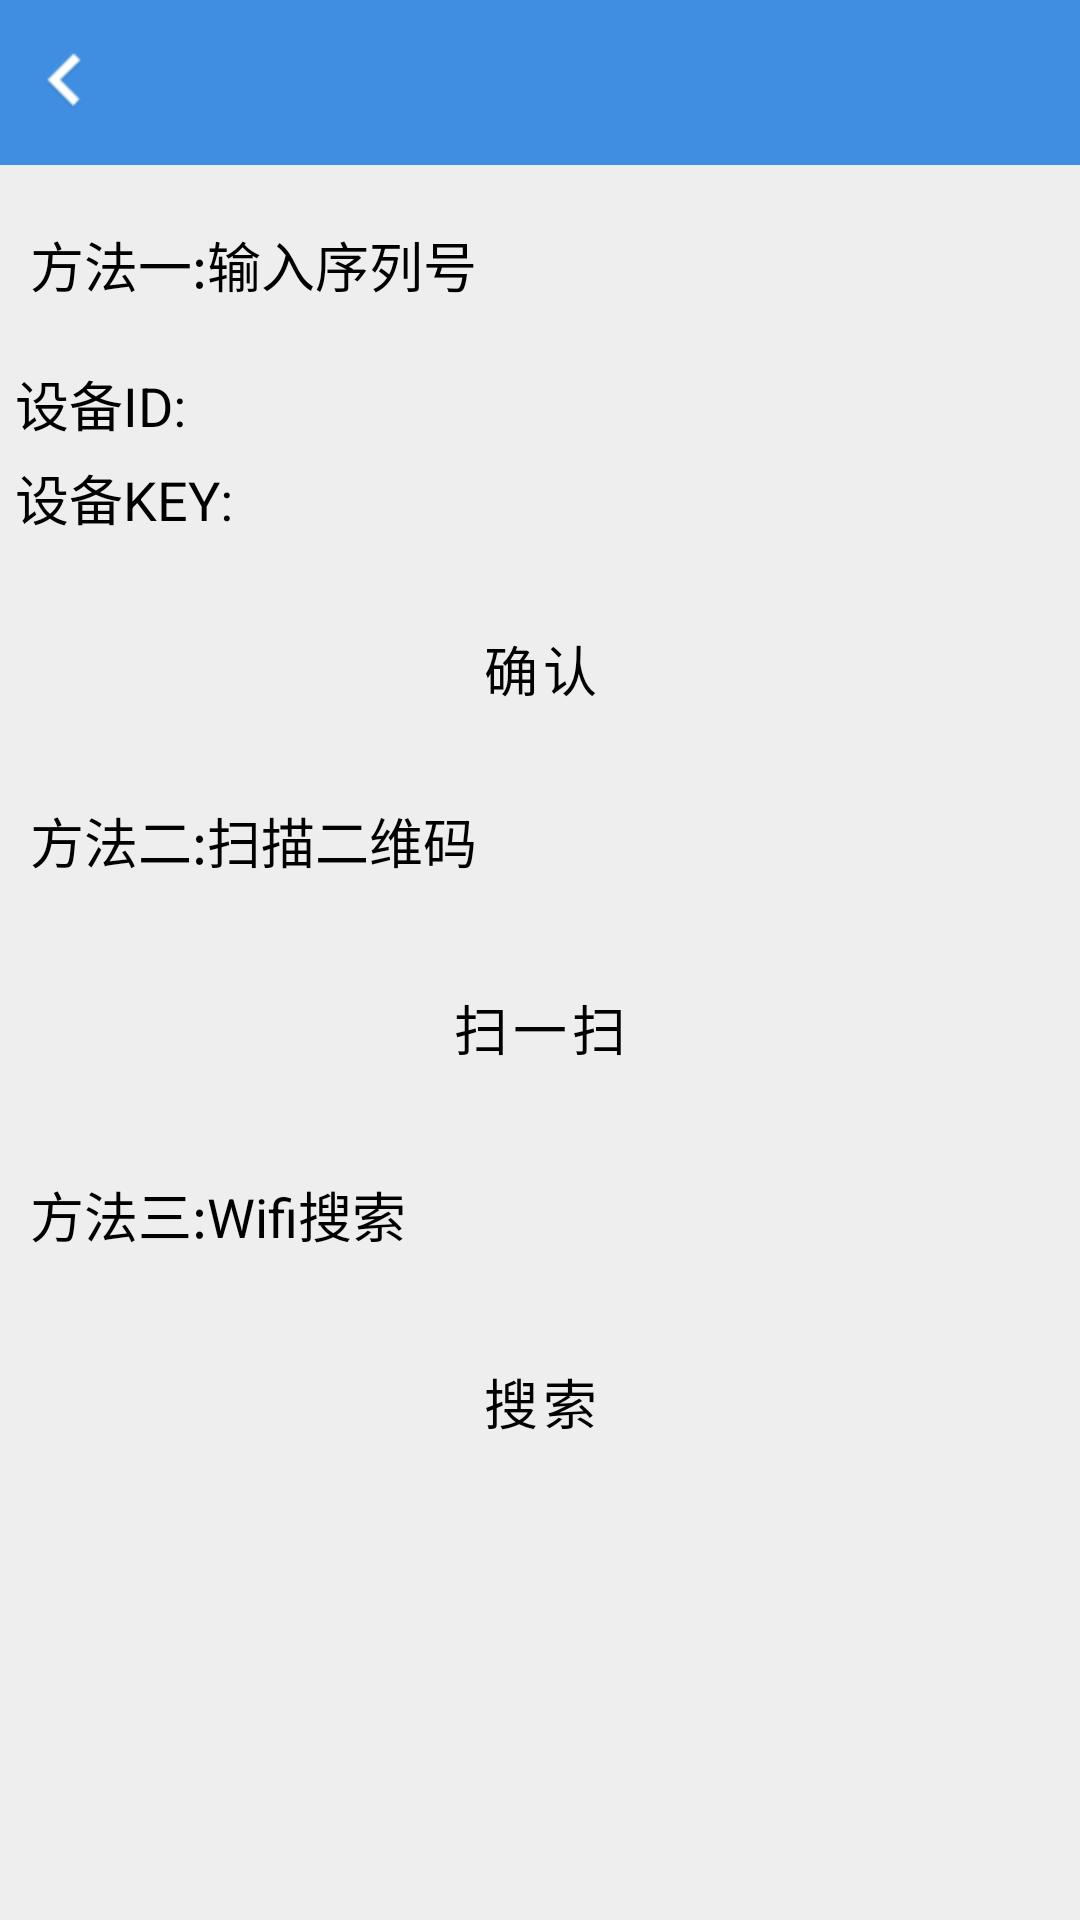

Where to tap for icons on this 1080px x 1920px app screen, as (x=x, y=y):
back: (x=64, y=79)
